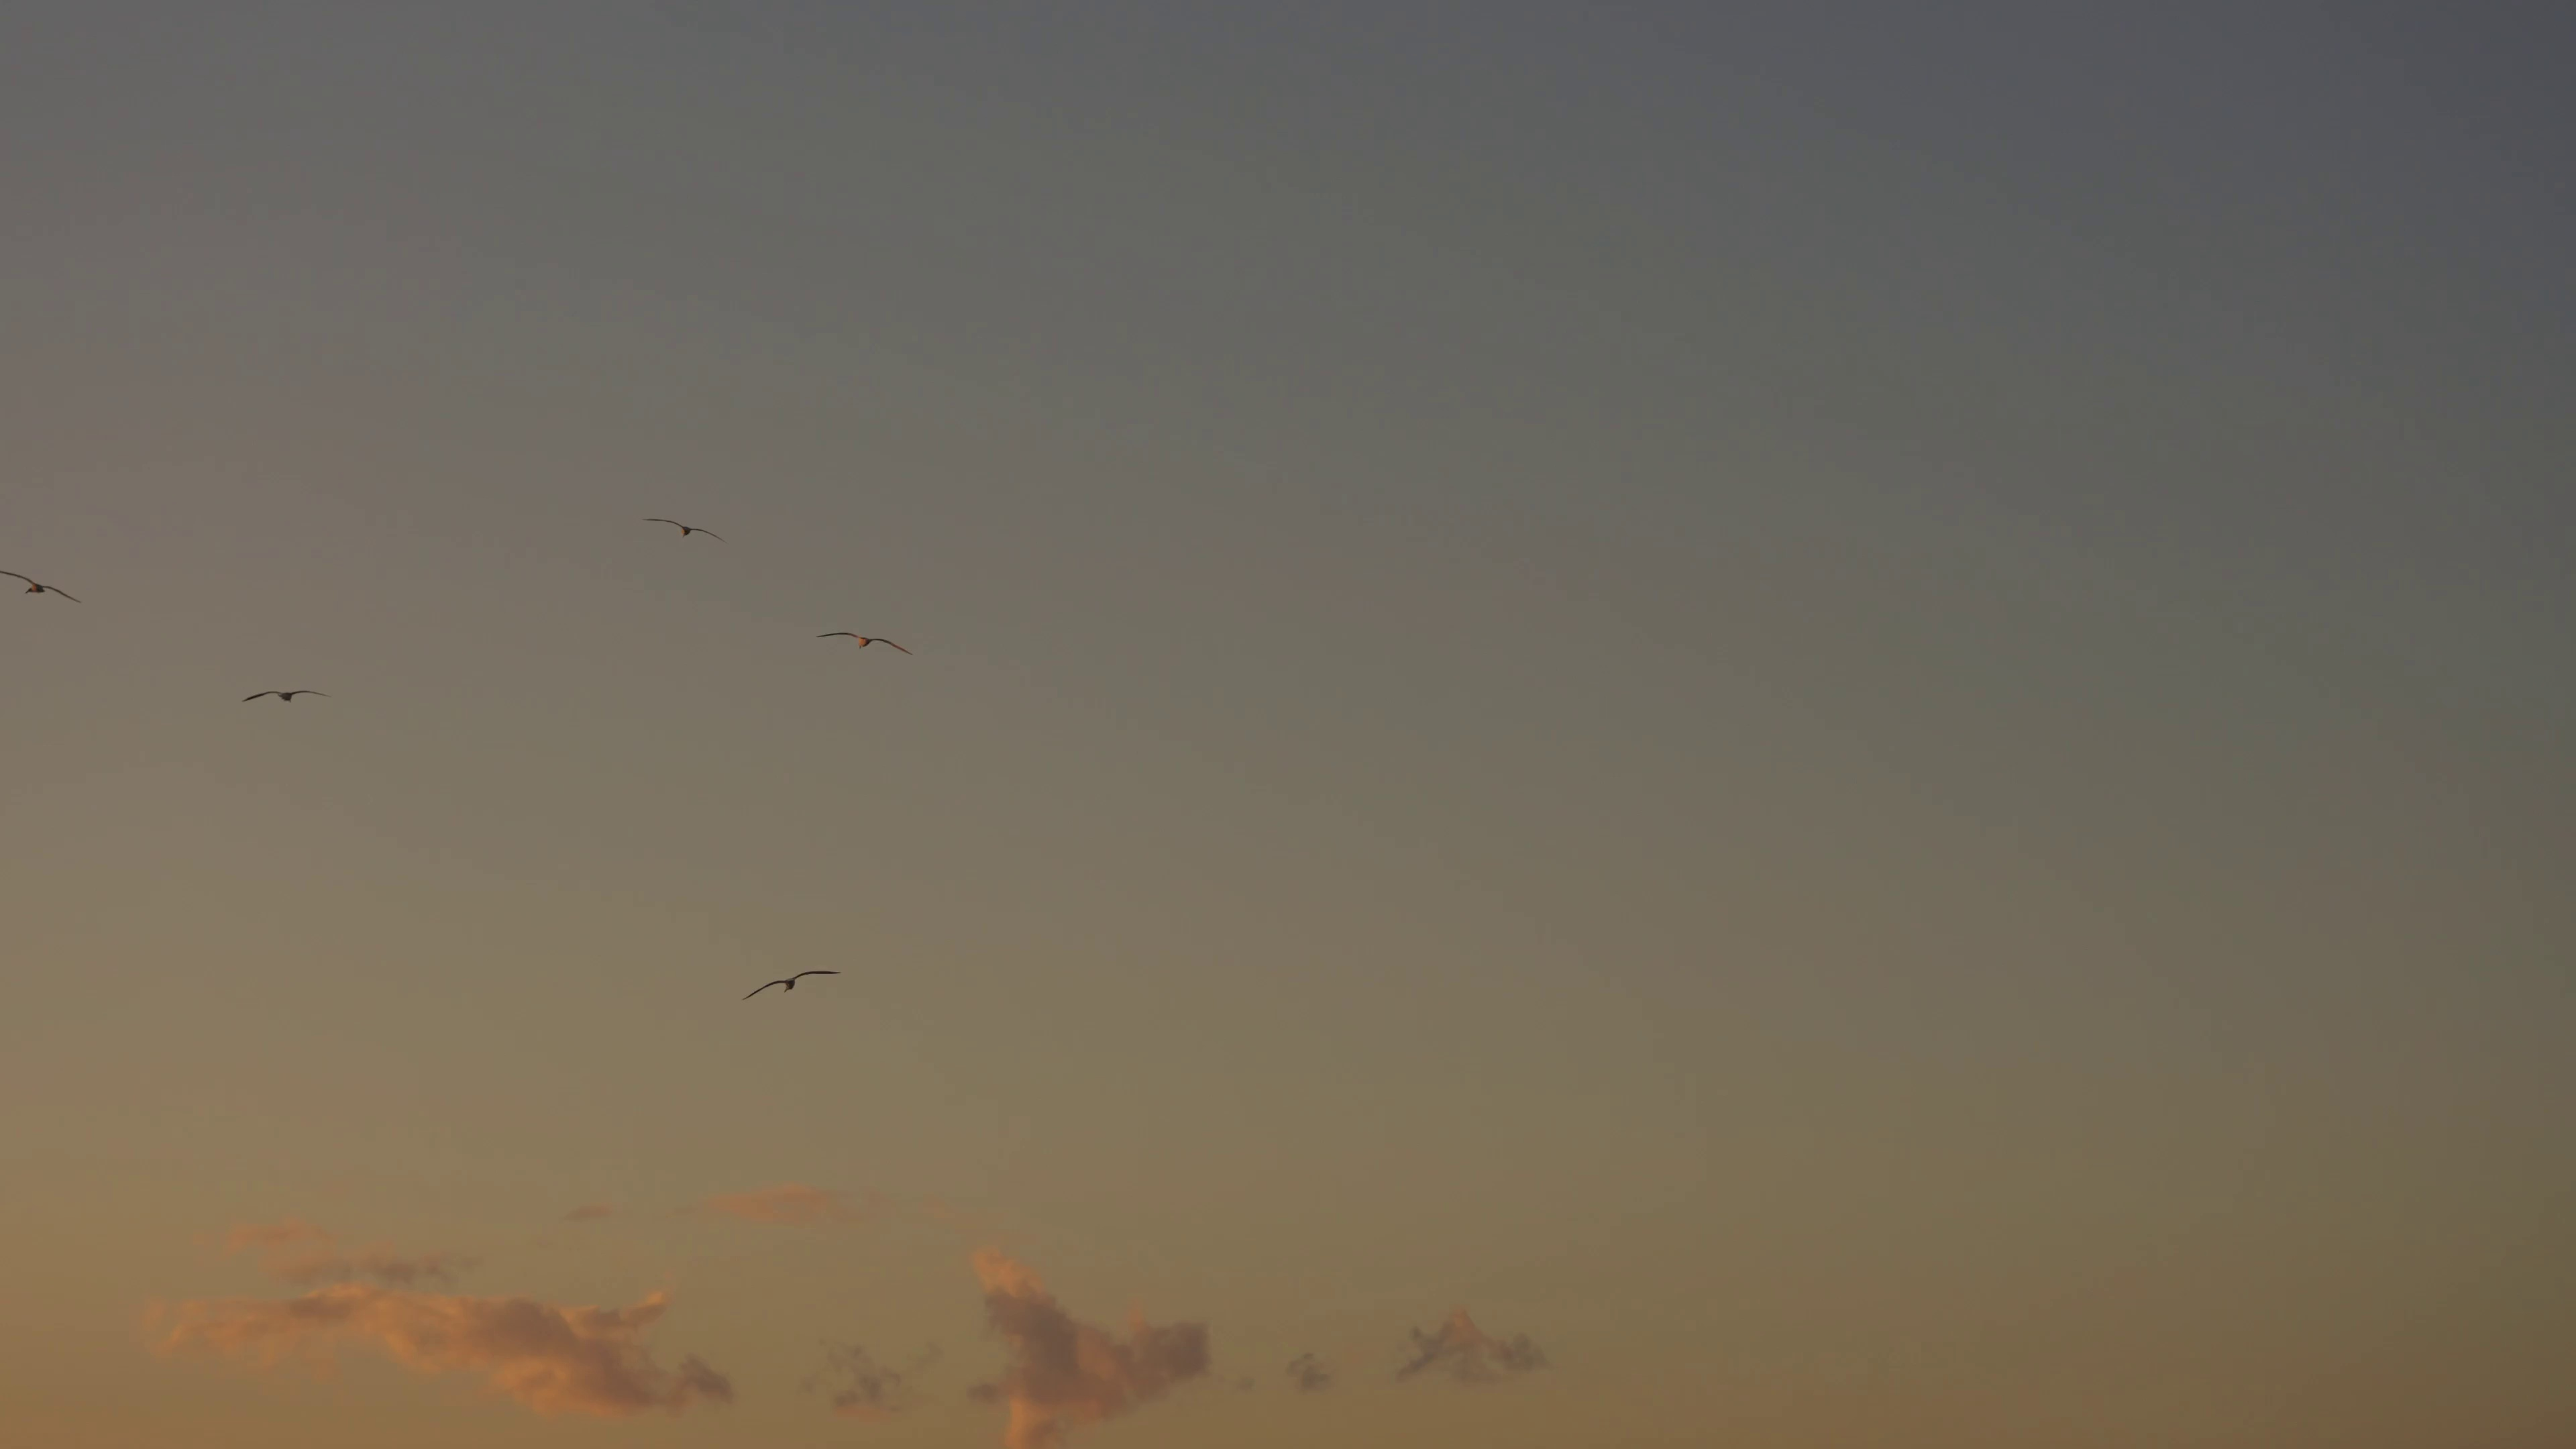bird: (743, 962, 840, 1000), (819, 625, 913, 662), (644, 511, 731, 550), (0, 570, 76, 605), (242, 683, 327, 708)
